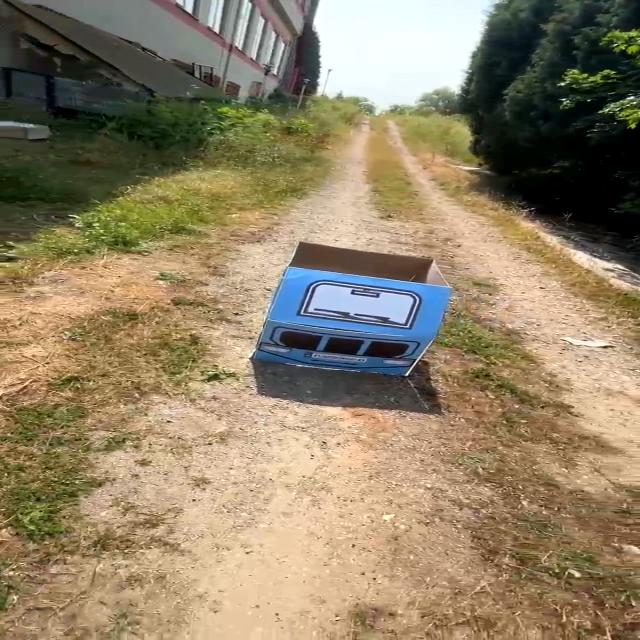blue_car: (246, 227, 470, 415)
